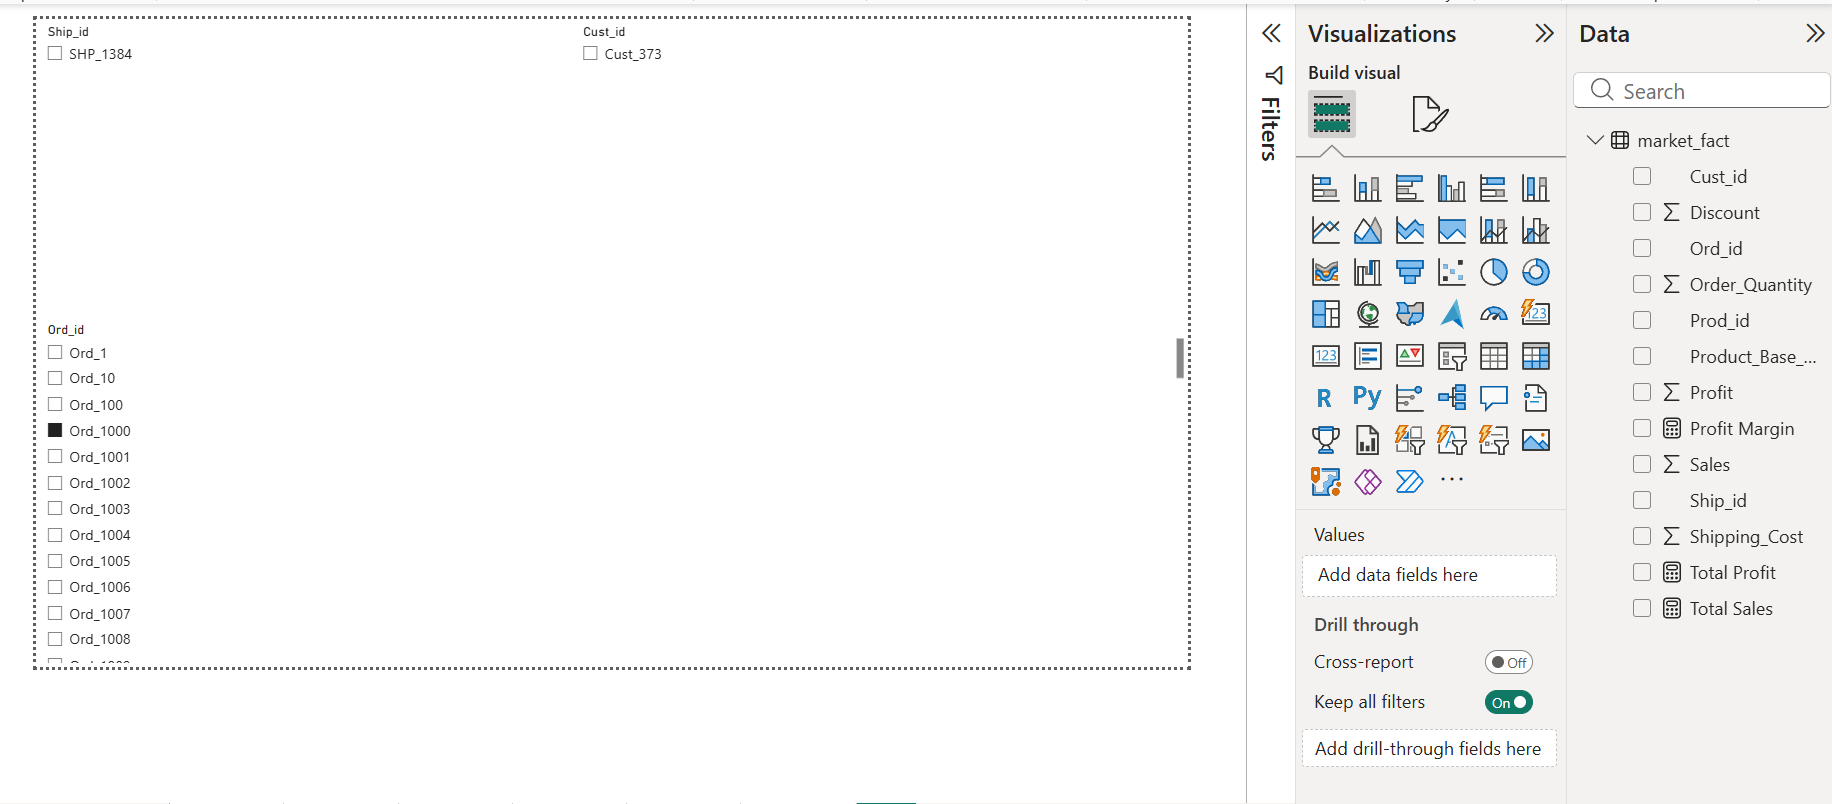

The page's visual inventory and layout, read from the dashboard file:
{"tool":"powerbi","page":{"name":"Page 5","canvas":[1280,720],"ordinal":4},"visuals":[{"type":"textSlicer","fields":{"Values":["market_fact.Ship_id"]},"box":[0,0,1280,720],"z":0}]}

Visuals, with their boxes on the page's 1280x720 design canvas (x1, y1, x2, y2). These are canvas units, not pixel positions in the 1832x804 screenshot, which may show the page scaled, cropped or inside an application window:
textSlicer - market_fact.Ship_id: (0, 0, 1280, 720)
